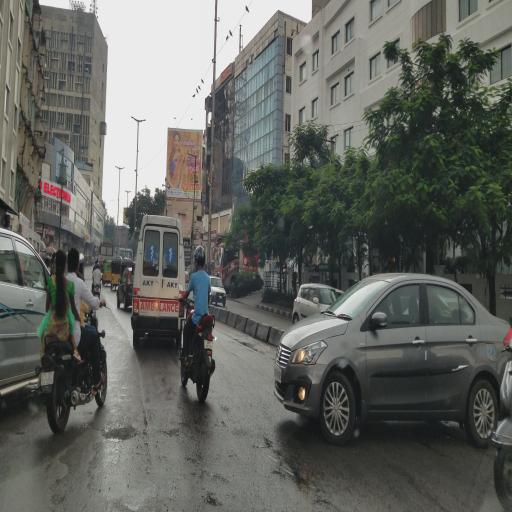street_light_0: (126, 109, 140, 129), (136, 112, 149, 132), (113, 157, 120, 171), (120, 161, 126, 175)
